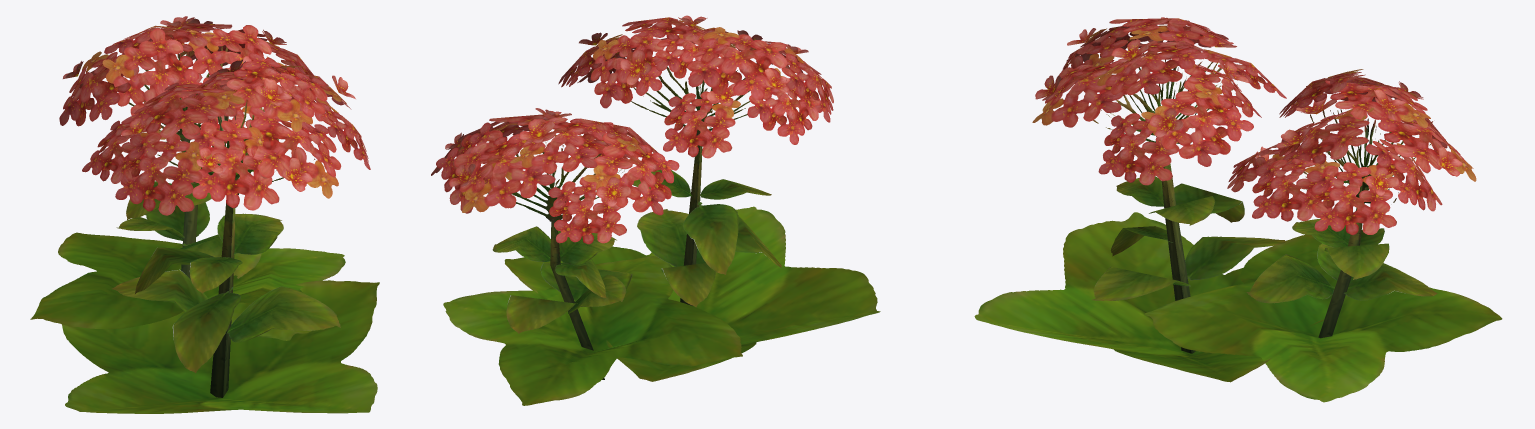
The model's file is Scene_cao_016.FBX.
3 views of the same model, side by side, from view 1: azimuth 30°, elevation 25°; view 2: azimuth 150°, elevation 25°; view 3: azimuth 270°, elevation 25° (orthographic). The views are drawn at different scales.
Parts seen in each view (by area): view 1: Scene_cao_016; view 2: Scene_cao_016; view 3: Scene_cao_016.
Boxes of the visible parts, box(x1,y1,x2,y2) form: Scene_cao_016: box(30, 16, 379, 413); Scene_cao_016: box(431, 15, 880, 405); Scene_cao_016: box(974, 17, 1502, 402).
Size of the model in its own units: 145 by 109 by 174.
